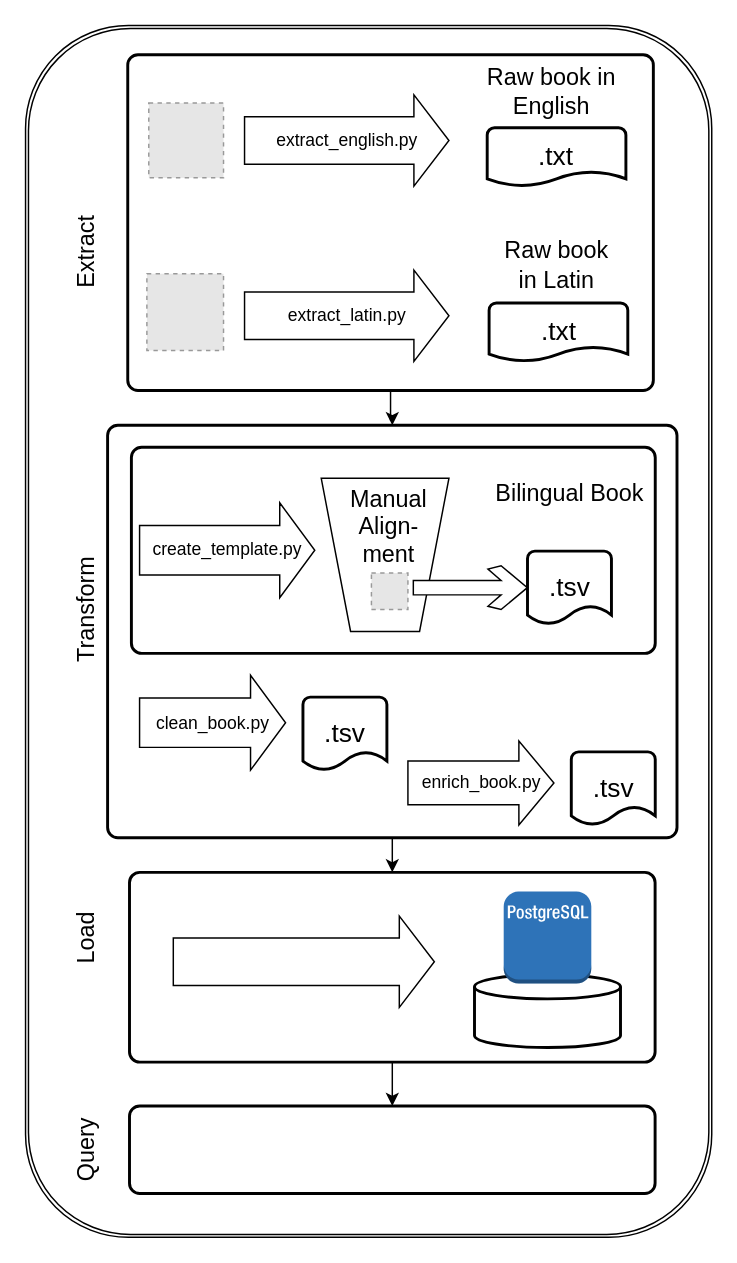
Image size: 737x1263. Some labels were removed from this diagram. Grey dashed boxes stand in for pictures. The centre of each missing label's shape, as x and y in pixels:
"load_book.py" belongs at point (303, 961).
"Sample Queries" belongs at point (391, 1149).
